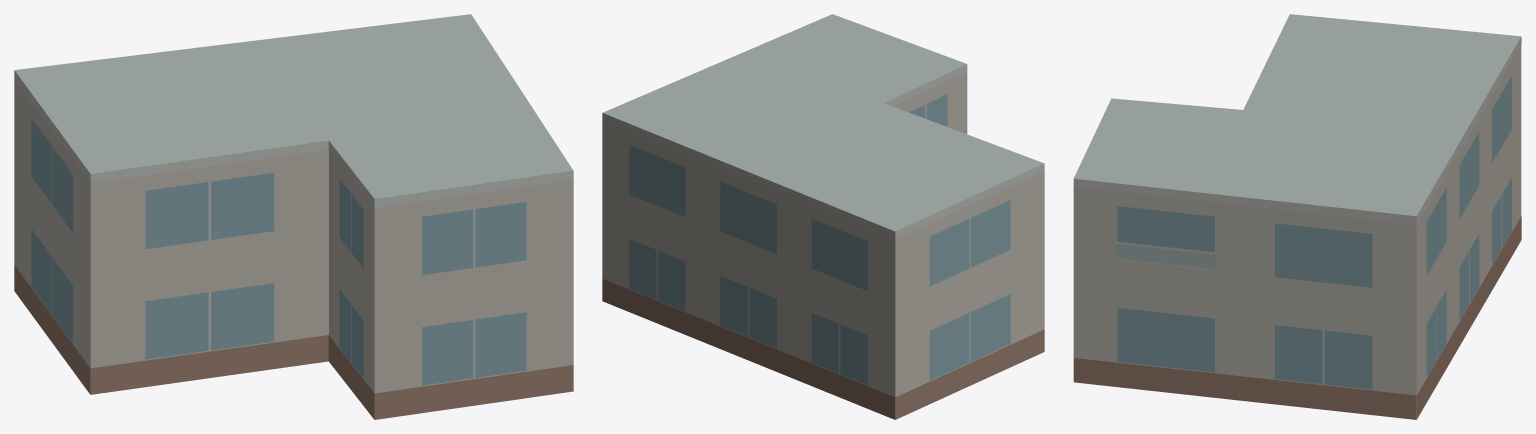
File: survey-upis-32919754.glb
3 renders of one model, left to right at view 1: azimuth 30°, elevation 25°; view 2: azimuth 150°, elevation 25°; view 3: azimuth 270°, elevation 25°, orthographic. The views are drawn at different scales.
Parts seen in each view (by area): view 1: survey-upis-32919754.tmp; view 2: survey-upis-32919754.tmp; view 3: survey-upis-32919754.tmp.
Part boxes in pixels (x1,y1,x2,y2): survey-upis-32919754.tmp: (14,14,573,419); survey-upis-32919754.tmp: (602,14,1044,419); survey-upis-32919754.tmp: (1073,14,1521,419).
Bounding box in the file's own units: 11.51 × 5.4 × 10.78.
